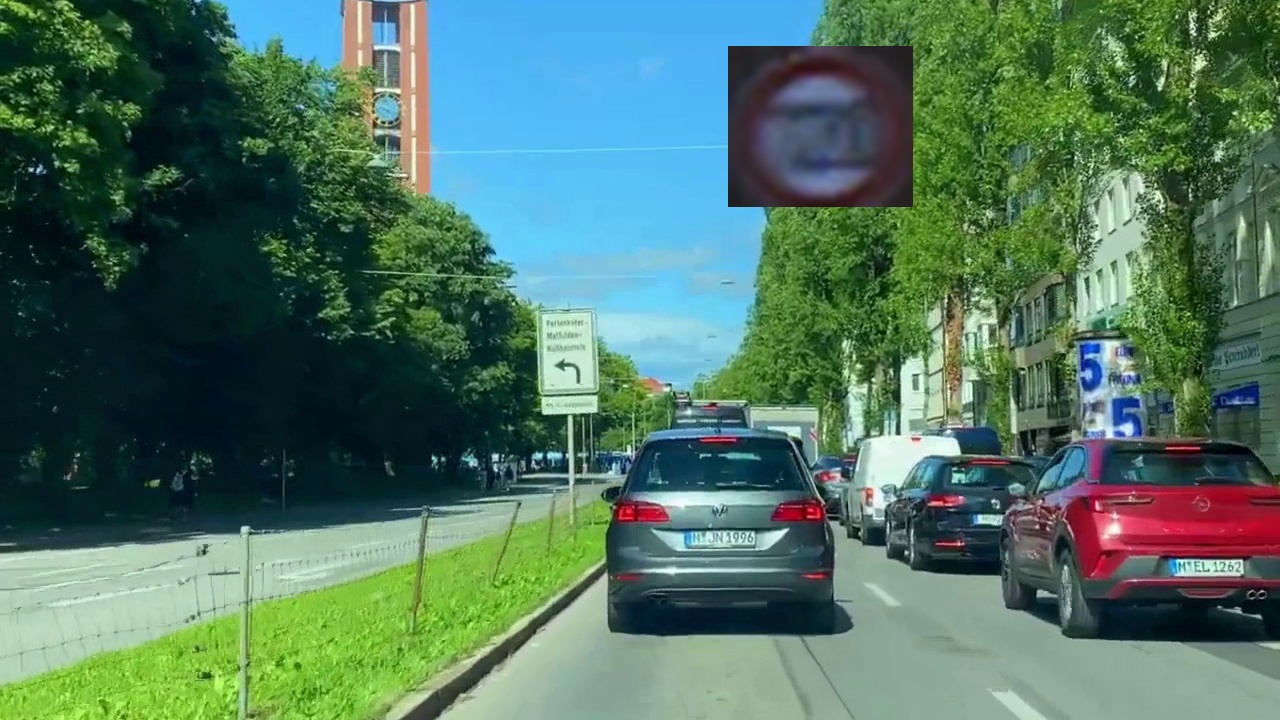Speed 120: (728, 46, 913, 207)
